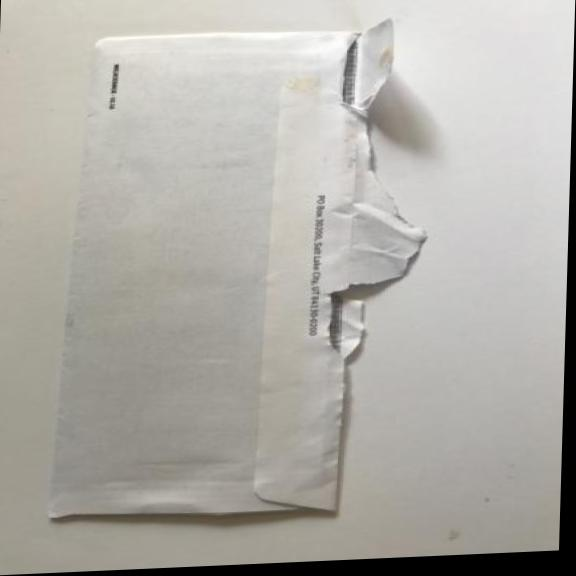Kertas: (32, 4, 445, 535)
